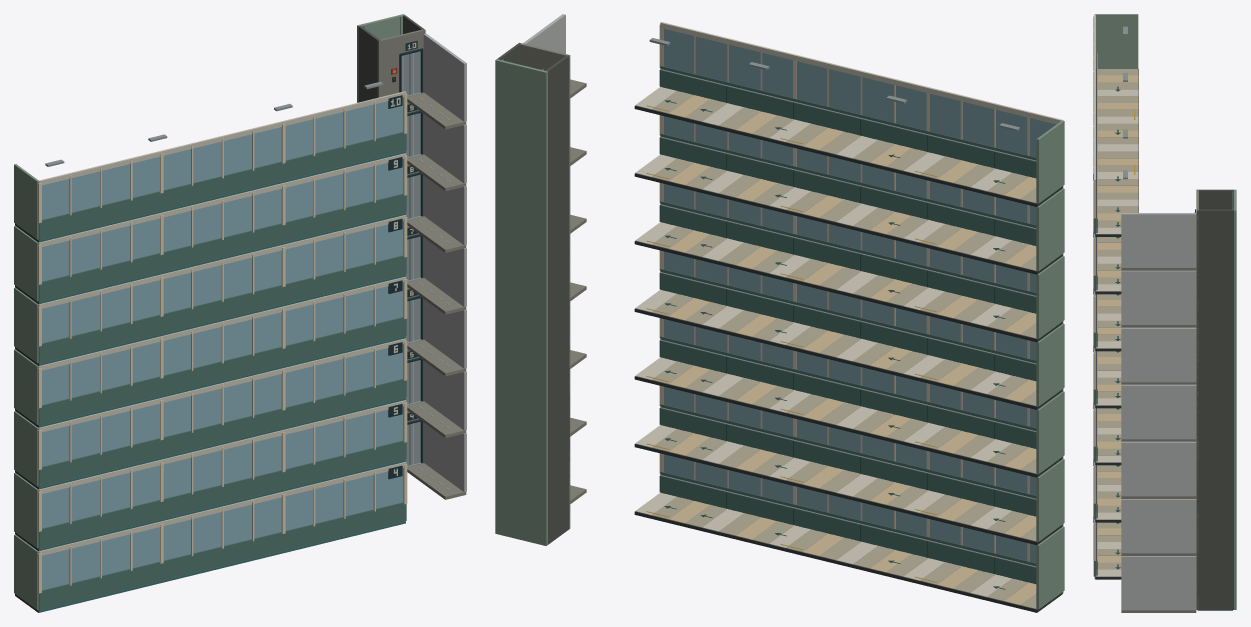
Rendered from upper-shell.glb.
3 renders of one model, left to right at view 1: azimuth 30°, elevation 25°; view 2: azimuth 150°, elevation 25°; view 3: azimuth 270°, elevation 25°, orthographic. The views are drawn at different scales.
Parts seen in each view (by area): view 1: cutaway_corridor_face_f10, cutaway_corridor_face_f4, cutaway_corridor_face_f6, cutaway_corridor_face_f5, cutaway_corridor_face_f7, cutaway_corridor_face_f8, cutaway_corridor_face_f9, cutaway_elevator_outer_f10, elevator_shaft_f10, cutaway_elevator_outer_f4, cutaway_elevator_outer_f6, cutaway_elevator_outer_f5 (+25 smaller); view 2: cutaway_corridor_face_f10, cutaway_corridor_face_f4, cutaway_corridor_face_f5, cutaway_corridor_face_f9, cutaway_corridor_face_f7, cutaway_corridor_face_f6, cutaway_corridor_face_f8, corridor_f5, corridor_f7, corridor_f8, corridor_f6, corridor_f9 (+25 smaller); view 3: corridor_f10, cutaway_elevator_outer_f6, cutaway_elevator_outer_f7, cutaway_elevator_outer_f8, cutaway_elevator_outer_f10, cutaway_elevator_outer_f4, cutaway_elevator_outer_f5, cutaway_elevator_outer_f9, elevator_shaft_f10, cutaway_corridor_end_f10, elevator_shaft_f8, elevator_shaft_f9 (+19 smaller).
Part boxes in pixels (bbox=[...]): cutaway_corridor_face_f10: bbox=[38, 91, 407, 239]; cutaway_corridor_face_f4: bbox=[38, 461, 407, 610]; cutaway_corridor_face_f6: bbox=[38, 338, 407, 486]; cutaway_corridor_face_f5: bbox=[38, 400, 407, 548]; cutaway_corridor_face_f7: bbox=[38, 276, 407, 425]; cutaway_corridor_face_f8: bbox=[38, 215, 407, 363]; cutaway_corridor_face_f9: bbox=[38, 153, 407, 301]; cutaway_elevator_outer_f10: bbox=[423, 33, 466, 121]; elevator_shaft_f10: bbox=[357, 14, 424, 98]; cutaway_elevator_outer_f4: bbox=[423, 422, 466, 492]; cutaway_elevator_outer_f6: bbox=[423, 299, 466, 368]; cutaway_elevator_outer_f5: bbox=[423, 361, 466, 430]; cutaway_corridor_face_f10: bbox=[659, 22, 1063, 178]; cutaway_corridor_face_f4: bbox=[659, 453, 1063, 584]; cutaway_corridor_face_f5: bbox=[659, 385, 1063, 516]; cutaway_corridor_face_f9: bbox=[659, 115, 1063, 245]; cutaway_corridor_face_f7: bbox=[659, 250, 1063, 381]; cutaway_corridor_face_f6: bbox=[659, 318, 1063, 448]; cutaway_corridor_face_f8: bbox=[659, 183, 1063, 313]; corridor_f5: bbox=[634, 425, 1063, 545]; corridor_f7: bbox=[634, 290, 1063, 409]; corridor_f8: bbox=[634, 222, 1063, 342]; corridor_f6: bbox=[634, 357, 1063, 477]; corridor_f9: bbox=[634, 154, 1063, 274]; corridor_f10: bbox=[1094, 68, 1138, 236]; cutaway_elevator_outer_f6: bbox=[1121, 441, 1196, 496]; cutaway_elevator_outer_f7: bbox=[1121, 384, 1196, 439]; cutaway_elevator_outer_f8: bbox=[1121, 327, 1196, 382]; cutaway_elevator_outer_f10: bbox=[1121, 213, 1196, 267]; cutaway_elevator_outer_f4: bbox=[1121, 556, 1196, 610]; cutaway_elevator_outer_f5: bbox=[1121, 499, 1196, 553]; cutaway_elevator_outer_f9: bbox=[1121, 270, 1196, 324]; elevator_shaft_f10: bbox=[1197, 189, 1236, 267]; cutaway_corridor_end_f10: bbox=[1095, 14, 1138, 68]; elevator_shaft_f8: bbox=[1197, 324, 1236, 381]; elevator_shaft_f9: bbox=[1197, 267, 1236, 324].
Bounding box in the file's own units: 24.07 × 22.57 × 7.3.
